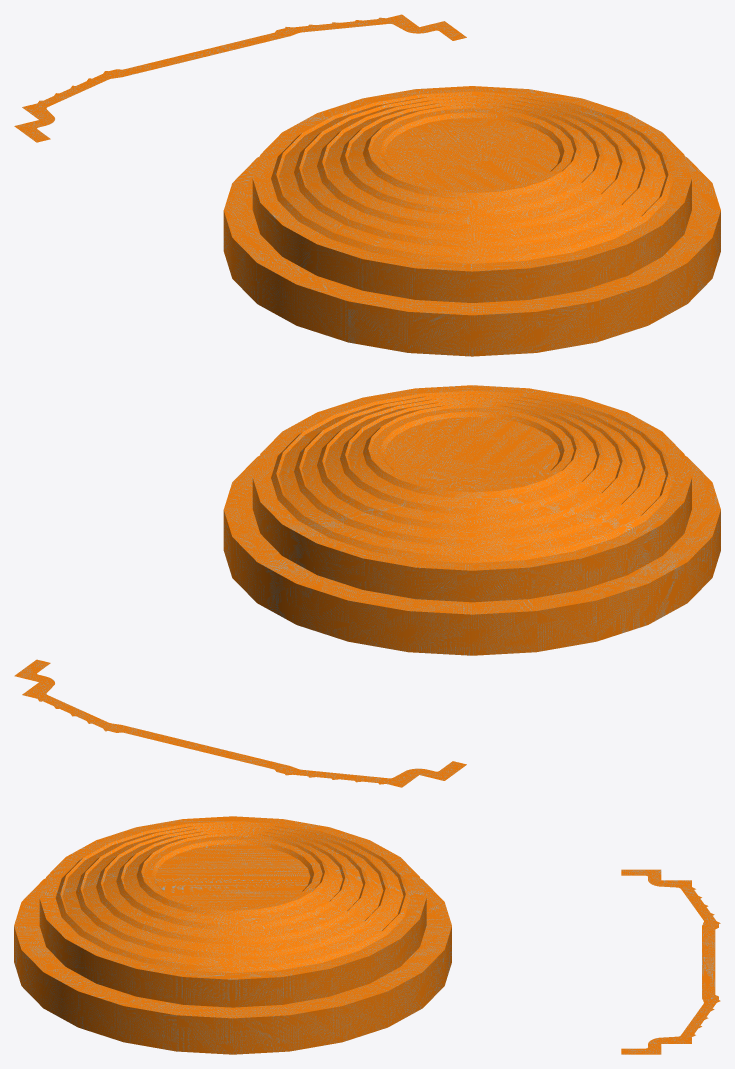
Rendered from clay_pigeon.dae.
3 renders of one model, top to bottom at view 1: azimuth 30°, elevation 25°; view 2: azimuth 150°, elevation 25°; view 3: azimuth 270°, elevation 25°, orthographic. The views are drawn at different scales.
Parts seen in each view (by area): view 1: Standard_Clay_Target (×4), Standard_Clay_Target_Section; view 2: Standard_Clay_Target (×4), Standard_Clay_Target_Section; view 3: Standard_Clay_Target (×4), Standard_Clay_Target_Section.
Part boxes in pixels (x1,y1,x2,y2): Standard_Clay_Target (×4): [223, 86, 720, 356]; Standard_Clay_Target_Section: [14, 14, 466, 142]; Standard_Clay_Target (×4): [223, 385, 720, 655]; Standard_Clay_Target_Section: [14, 659, 466, 787]; Standard_Clay_Target (×4): [14, 816, 451, 1054]; Standard_Clay_Target_Section: [621, 869, 720, 1054].
Bounding box in the file's own units: 4.33 × 6.99 × 0.9843.
